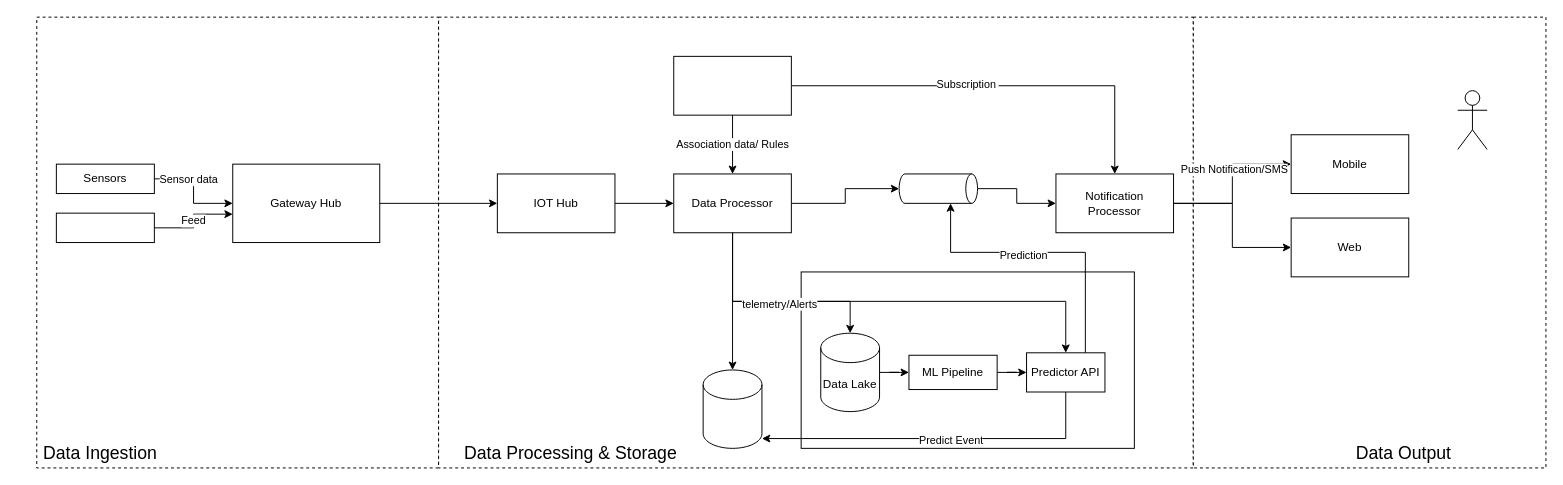
Some shapes in this 1563 by 485 pixel diagram are drawn without their labels. The shapes that lost their labels are listed below. From the top down, each one's box as (x1, y1, x2, y2) in pixels, then its label:
(673, 55, 791, 115): Fishwatch DB
(1457, 90, 1487, 149): Actor
(898, 173, 978, 203): Notification Q
(55, 212, 154, 243): Camera
(702, 369, 762, 448): Telemetry DB
